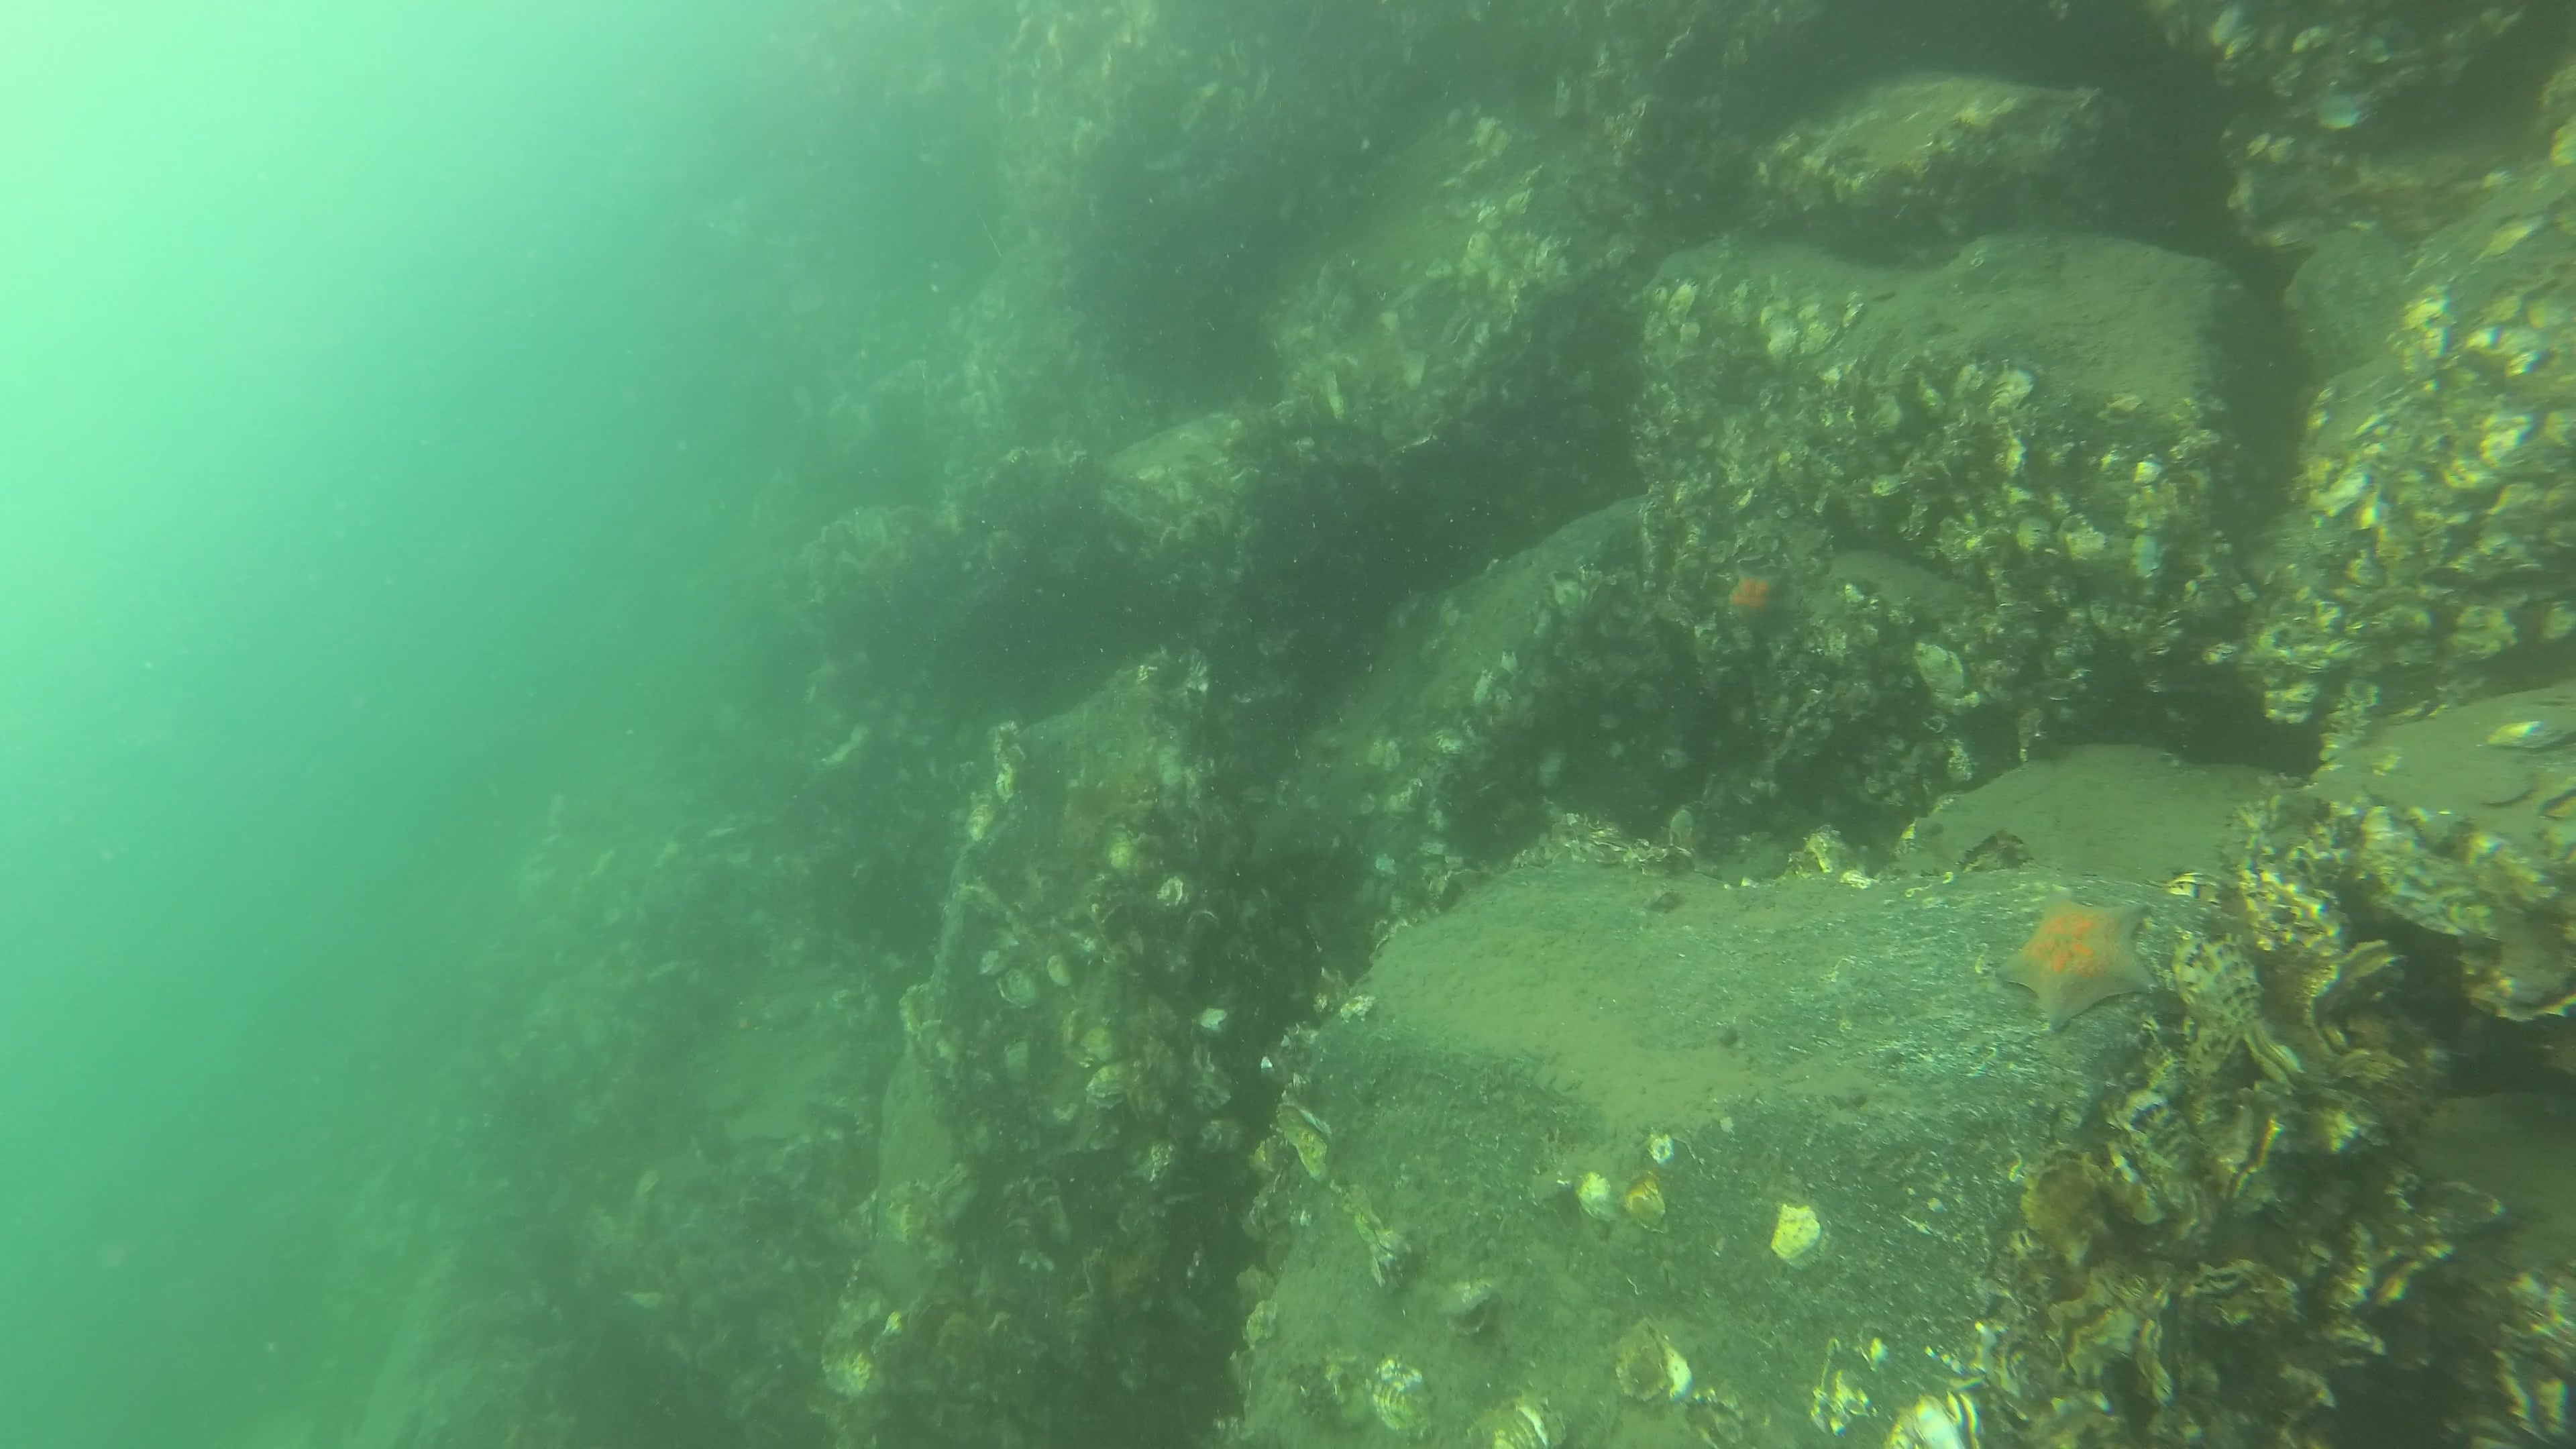starfish: (1994, 892, 2160, 1037), (1727, 564, 1801, 644)
